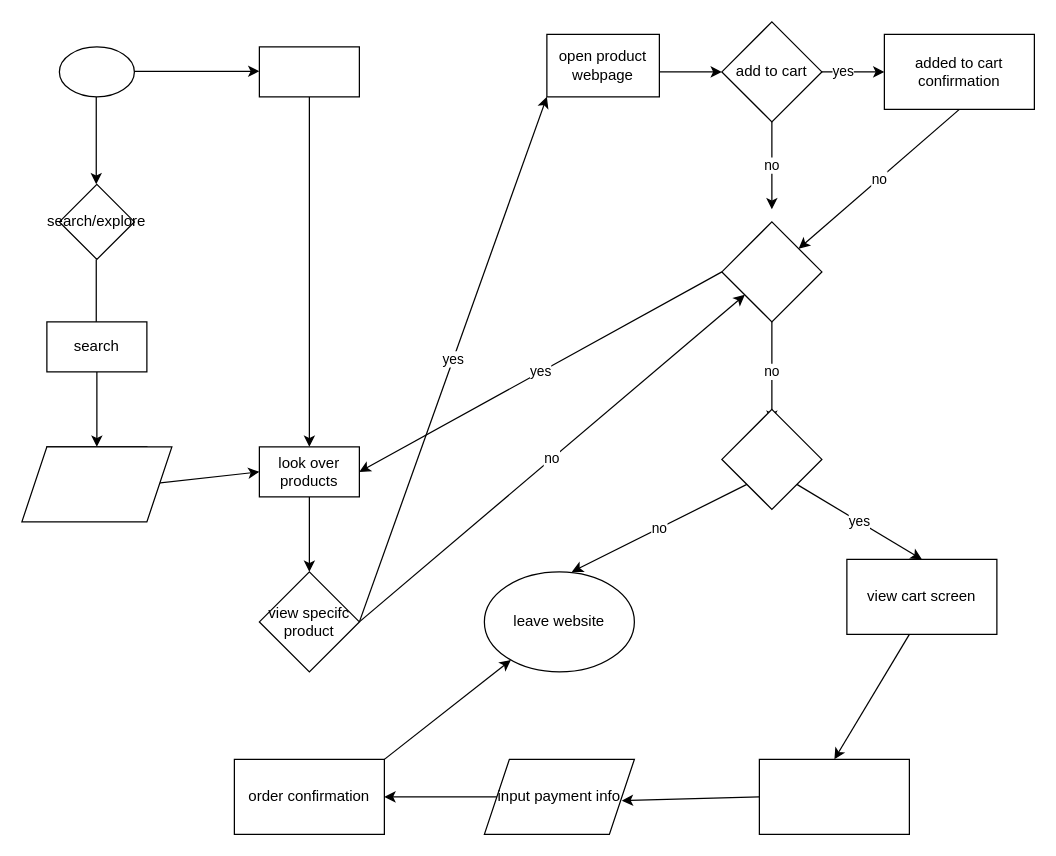
The diagram is 1056 pixels wide and 856 high, and some of its shapes have lost their labels. Each missing label, with the centre of its shape:
"checkout?" belongs at point 771,458.
"continue shopping?" belongs at point 771,271.
"enter" belongs at point 96,71.
"explore" belongs at point 308,71.
"provide search input" belongs at point 96,484.
"view payment screen" belongs at point 833,796.
